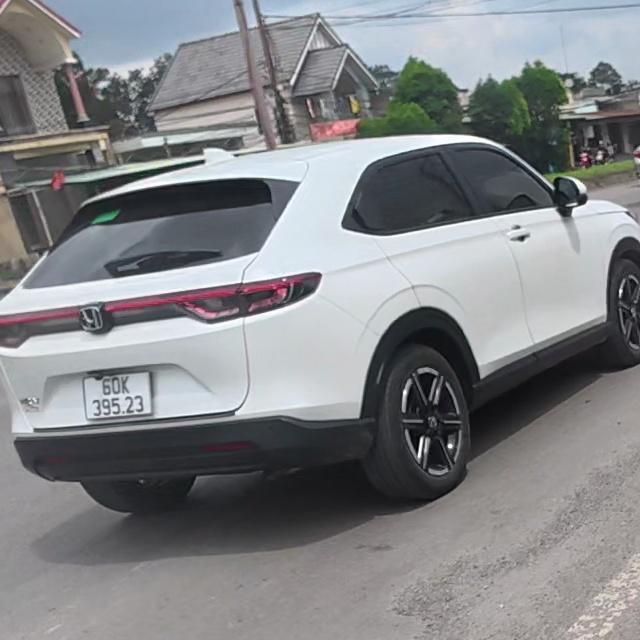car: (0, 132, 640, 512)
plate: (81, 364, 168, 428)
